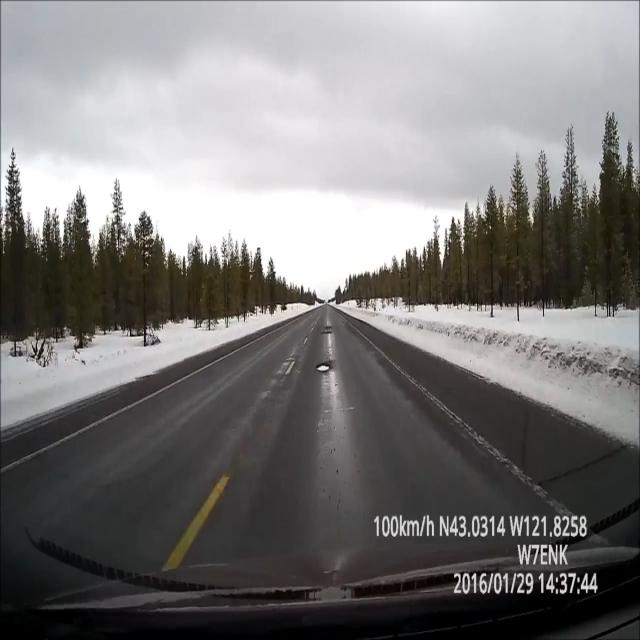Pothole: (316, 350, 340, 378), (318, 320, 338, 338)
